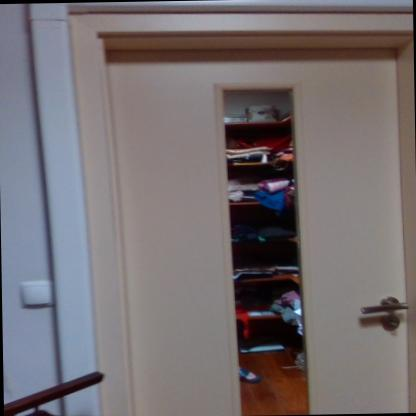closed: (84, 6, 416, 416)
